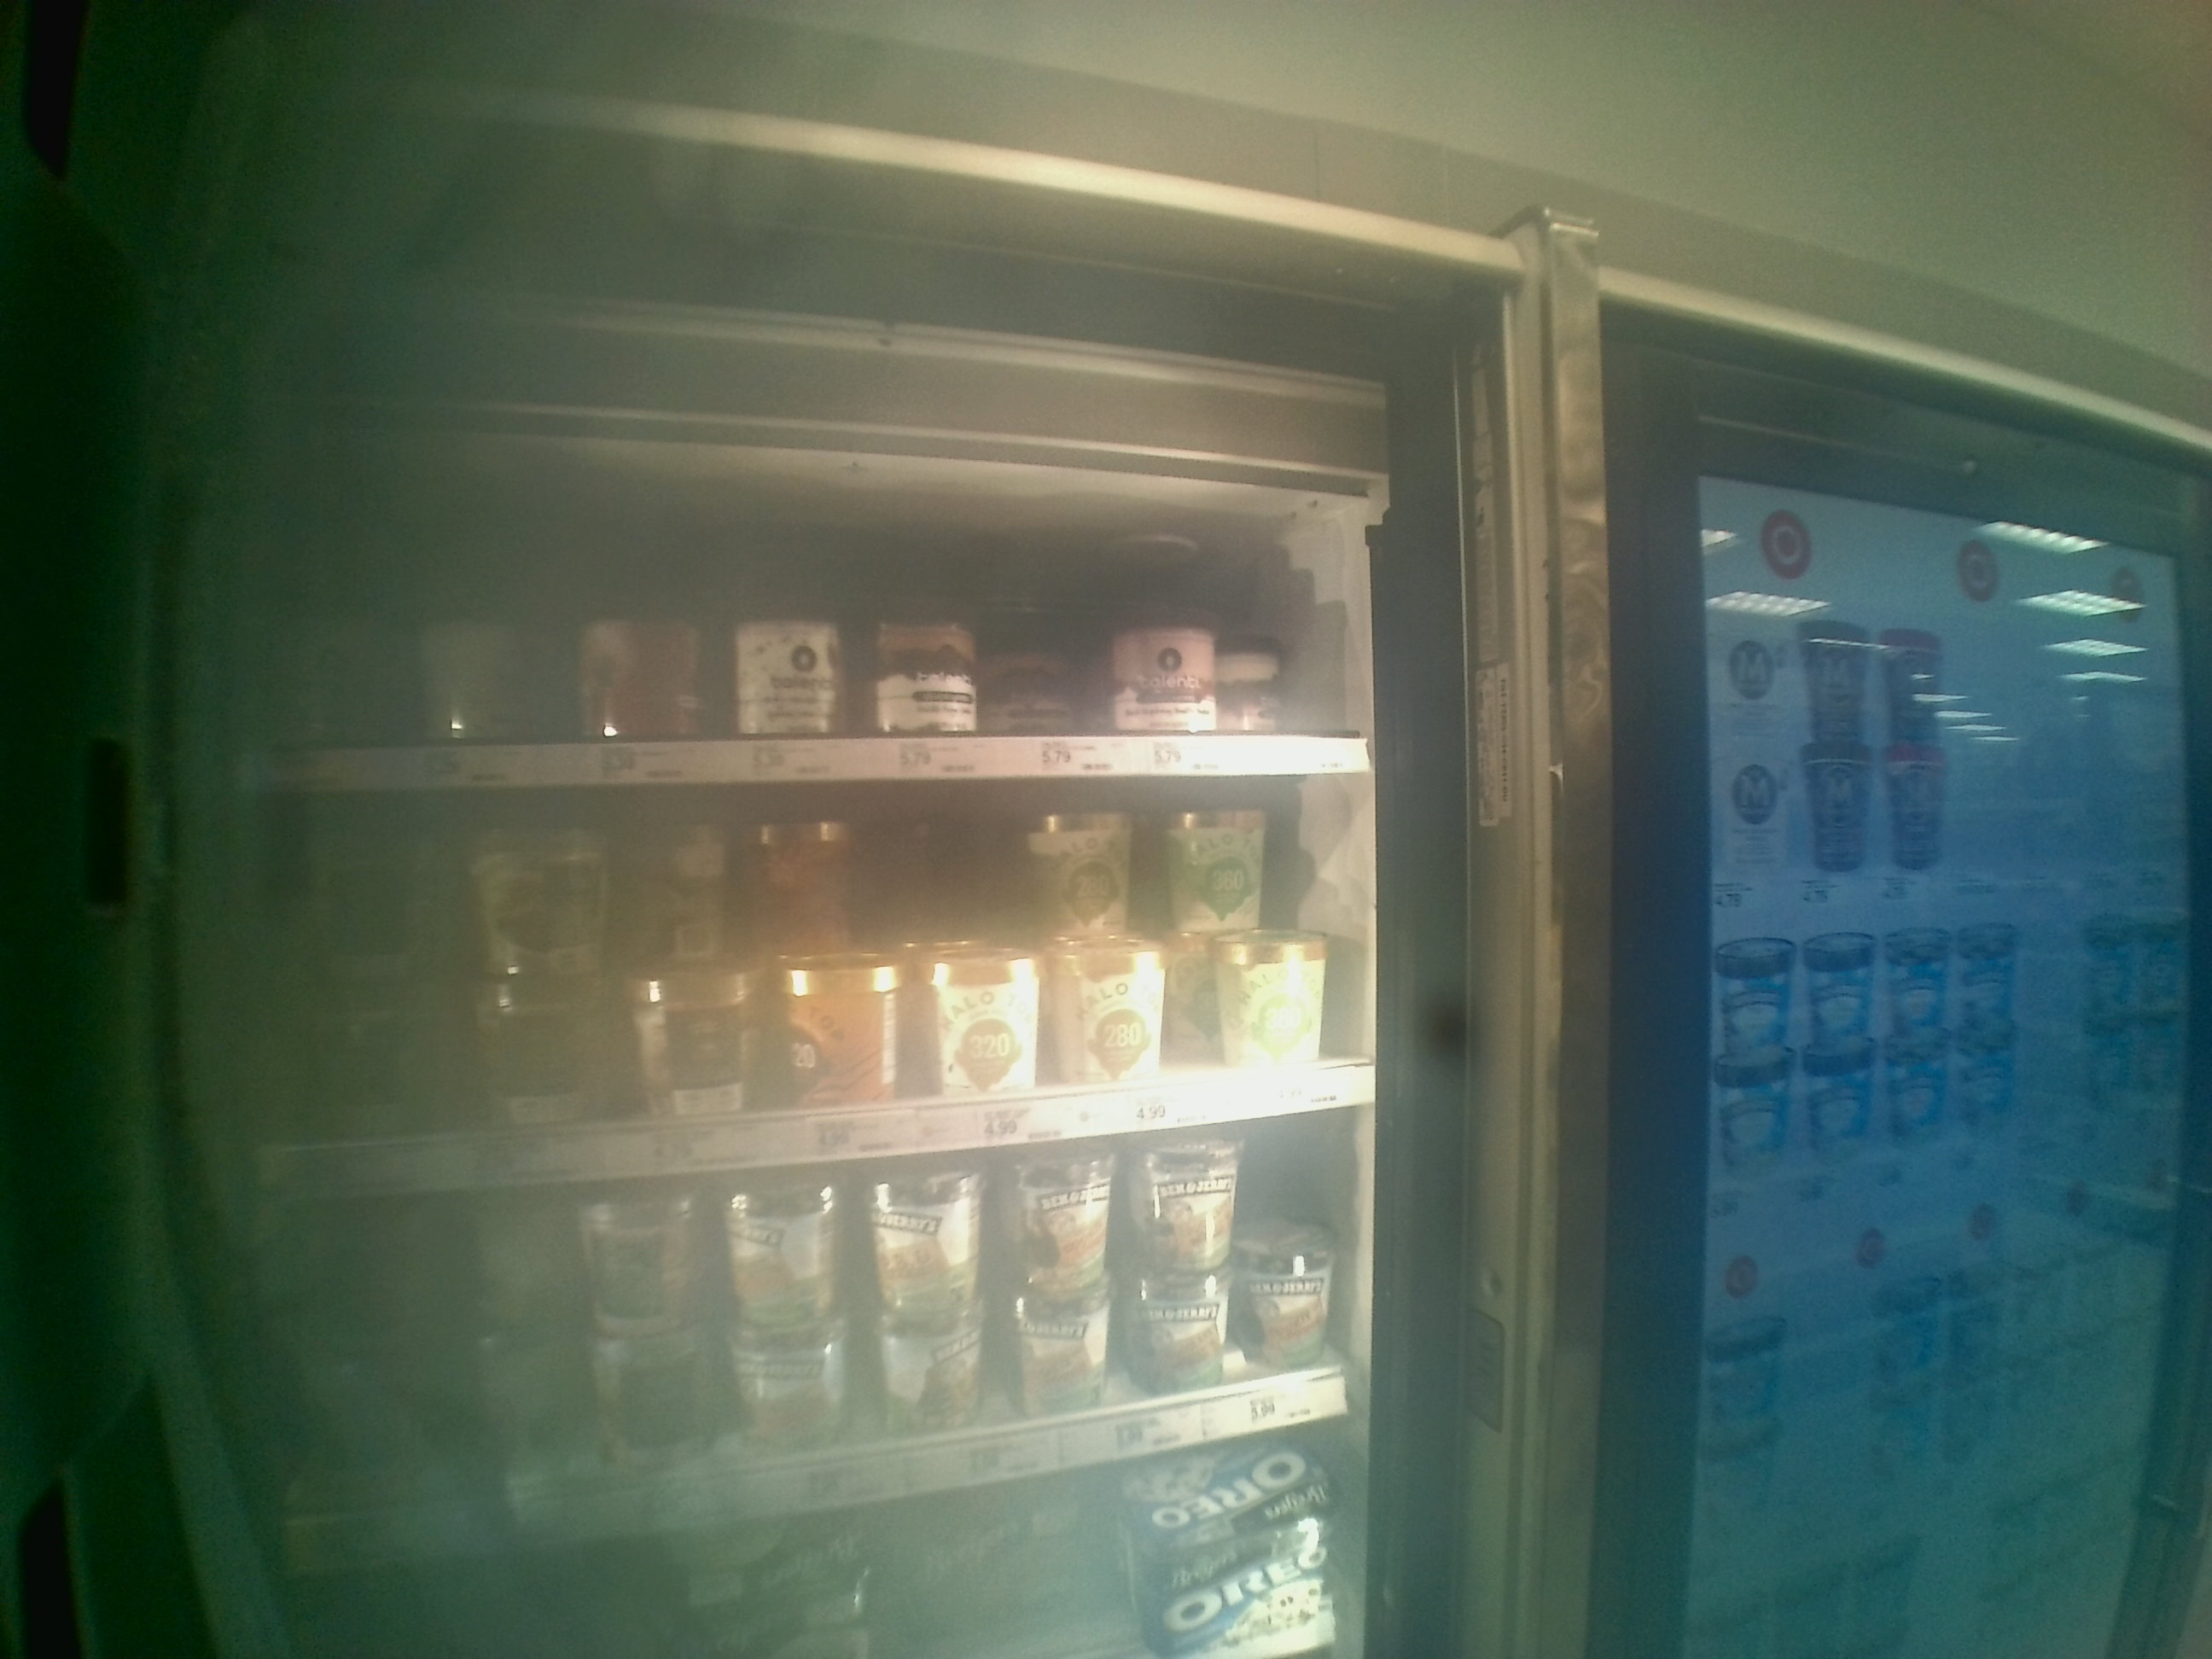shelf: (270, 1089, 1372, 1588), (221, 788, 1383, 1202), (230, 465, 1372, 791)
